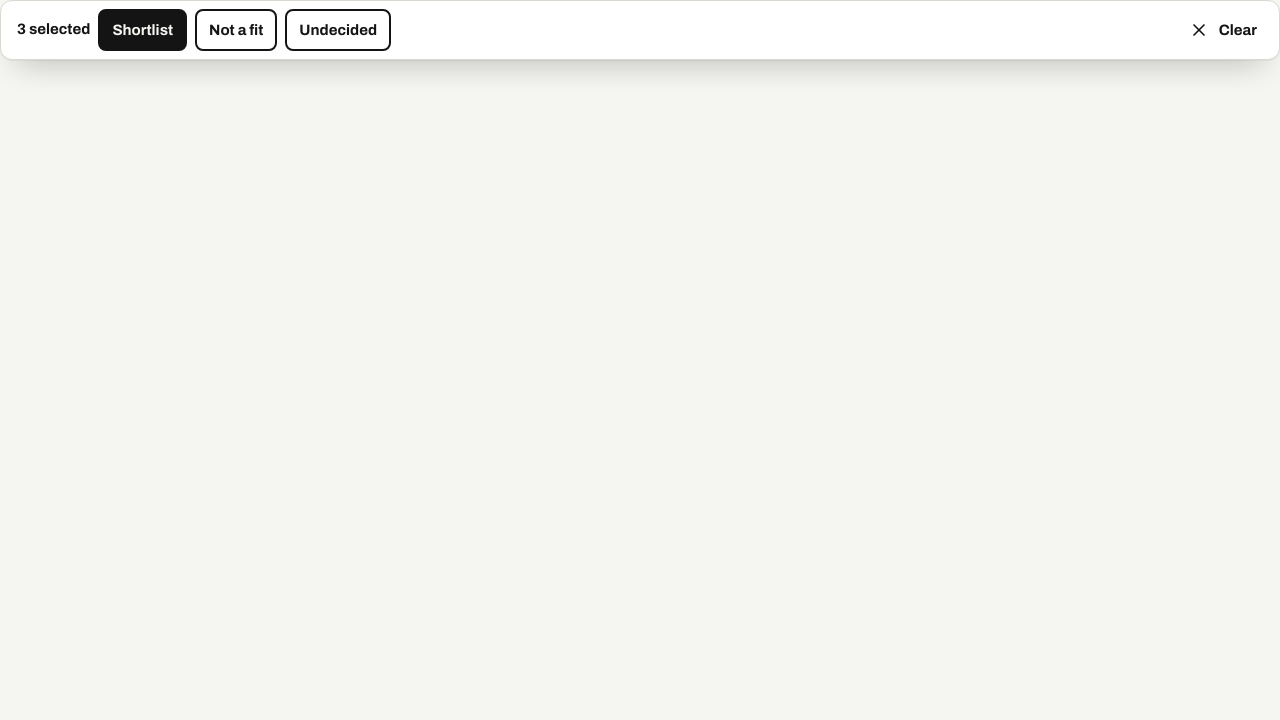
Scenario: BulkBar › says when some or all of the CVs already had the decision
Click the button "Not a fit" at (236, 30), box [195,9,277,51]
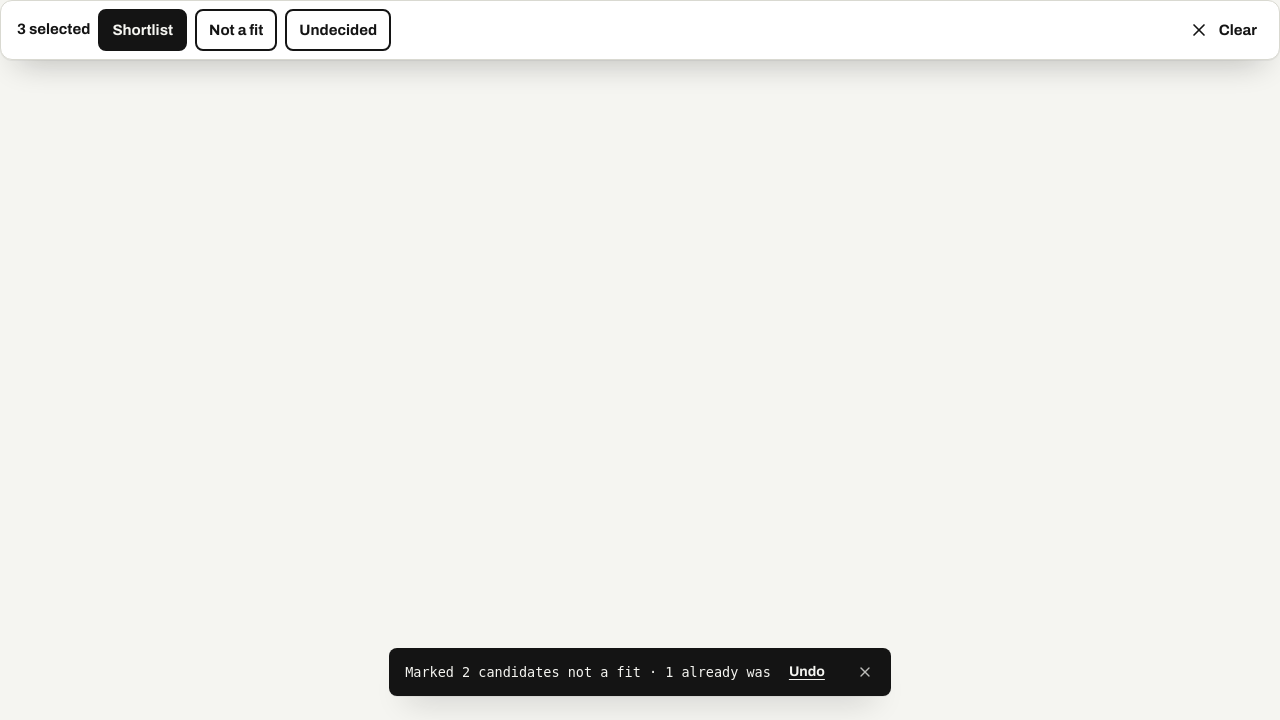
expect the text "Marked 2 candidates not a fit · 1 already was" is shown: met, box [405,664,771,680]
